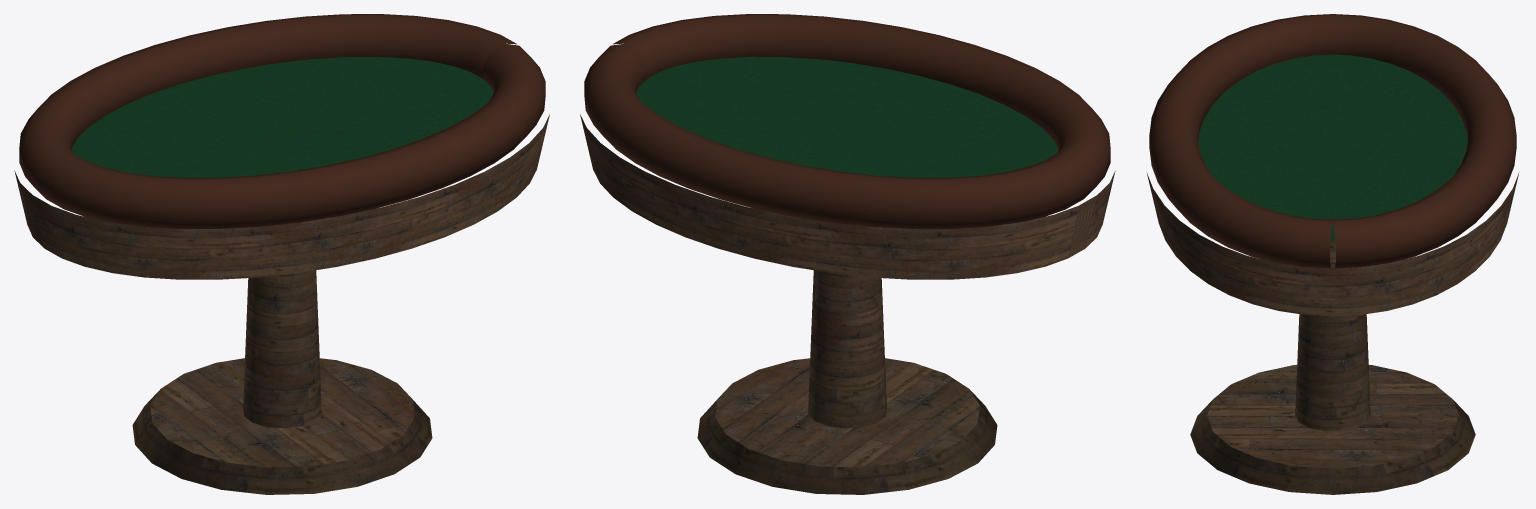
File: prop_gamingTable.glb
The picture shows the model from 3 angles, left to right: view 1: azimuth 30°, elevation 25°; view 2: azimuth 150°, elevation 25°; view 3: azimuth 270°, elevation 25°; orthographic projection. The views are drawn at different scales.
Visible parts, largest first — view 1: prop; view 2: prop; view 3: prop.
Boxes of the visible parts, bbox=[...] form: prop: bbox=[14, 14, 549, 494]; prop: bbox=[580, 14, 1115, 494]; prop: bbox=[1146, 14, 1519, 494].
Bounding box in the file's own units: 1.3 × 0.83 × 0.9.
Materials: 3 (3 with a texture image).
